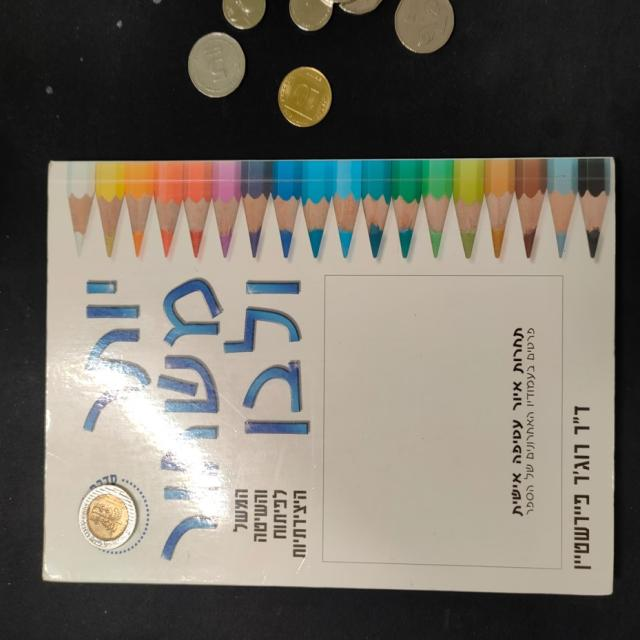1-shekel: (286, 0, 341, 42)
10-shekel: (76, 484, 137, 551)
5-shekel: (187, 31, 250, 101), (392, 0, 458, 60)
